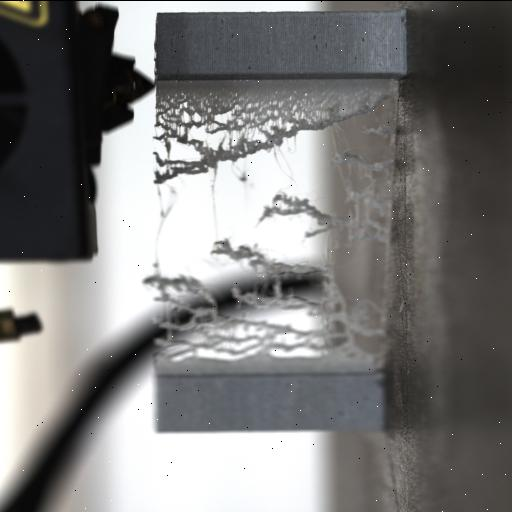stringing: (148, 253, 378, 371), (158, 84, 398, 188), (249, 184, 395, 248)
